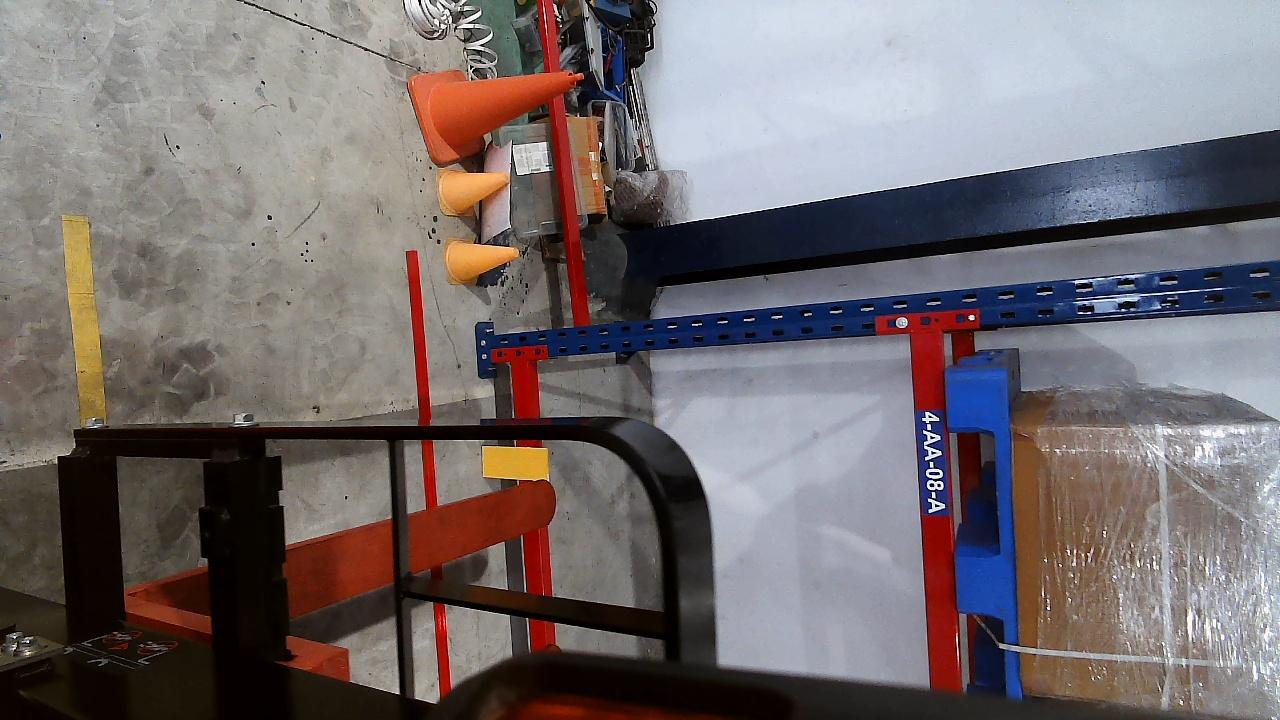h_rack: (907, 326, 963, 690), (505, 359, 557, 645)
orange_strip: (483, 446, 552, 481)
red_line: (400, 252, 452, 500)
small_pallet: (947, 366, 1021, 678)
yellow_line: (60, 214, 106, 426)
